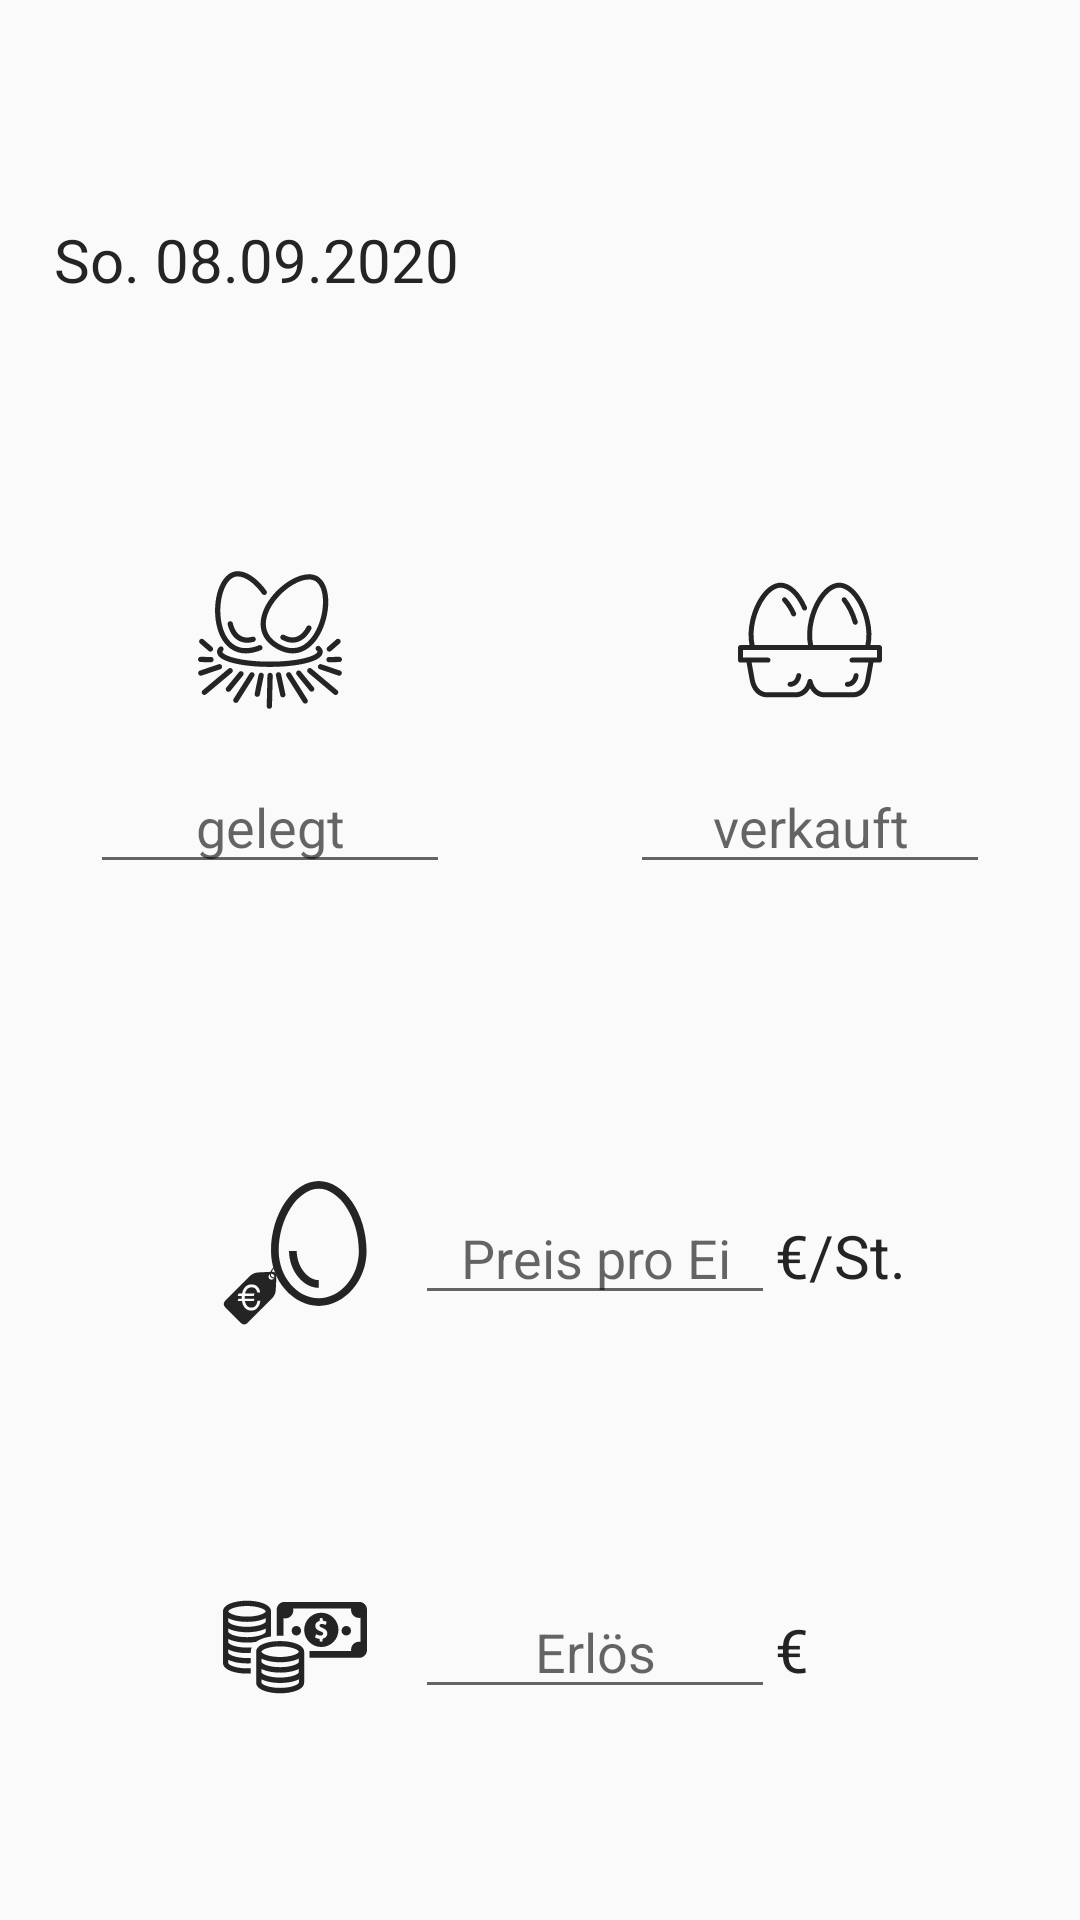

Point at icon controls on the screen. Image size 1080px×1920px, points as [x,y].
Icon für die abgenommenen Eier: [270,640]
